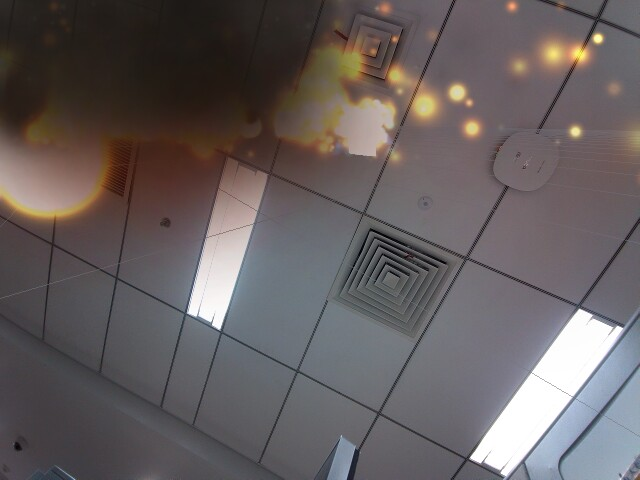fire: (7, 102, 126, 222)
